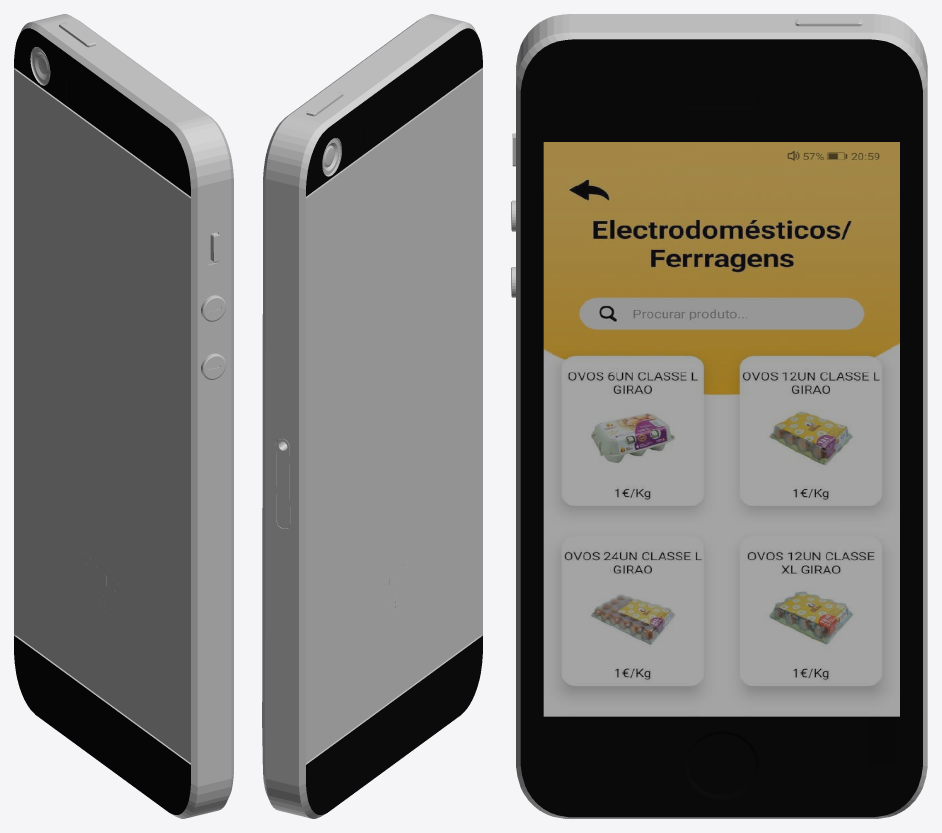
Rendered from phonessr.glb.
3 renders of one model, left to right at view 1: azimuth 30°, elevation 25°; view 2: azimuth 150°, elevation 25°; view 3: azimuth 270°, elevation 25°, orthographic. The views are drawn at different scales.
Parts seen in each view (by area): view 1: Phone_Cube; view 2: Phone_Cube; view 3: Plane, Phone_Cube.
Part boxes in pixels (x1,y1,x2,y2): Phone_Cube: (14,14,233,818); Phone_Cube: (262,14,482,818); Plane: (543,142,899,716); Phone_Cube: (511,14,927,818).
Bounding box in the file's own units: 0.1261 × 1.86 × 0.8877.
10 materials, 1 textured.
